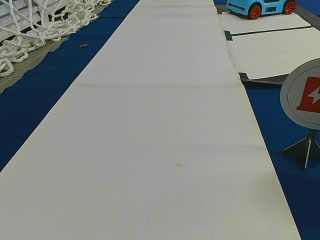battery: (280, 58, 319, 131)
car: (228, 0, 294, 18)
